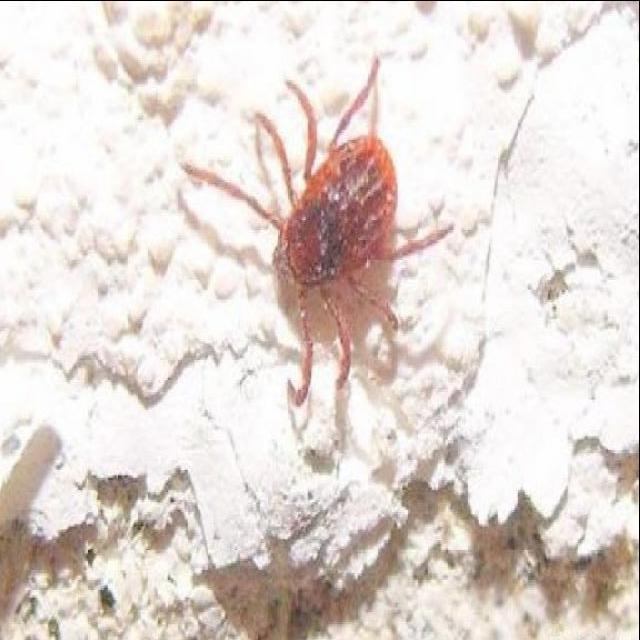Rhipicephalus Sanguineus-F: (183, 56, 454, 447)
